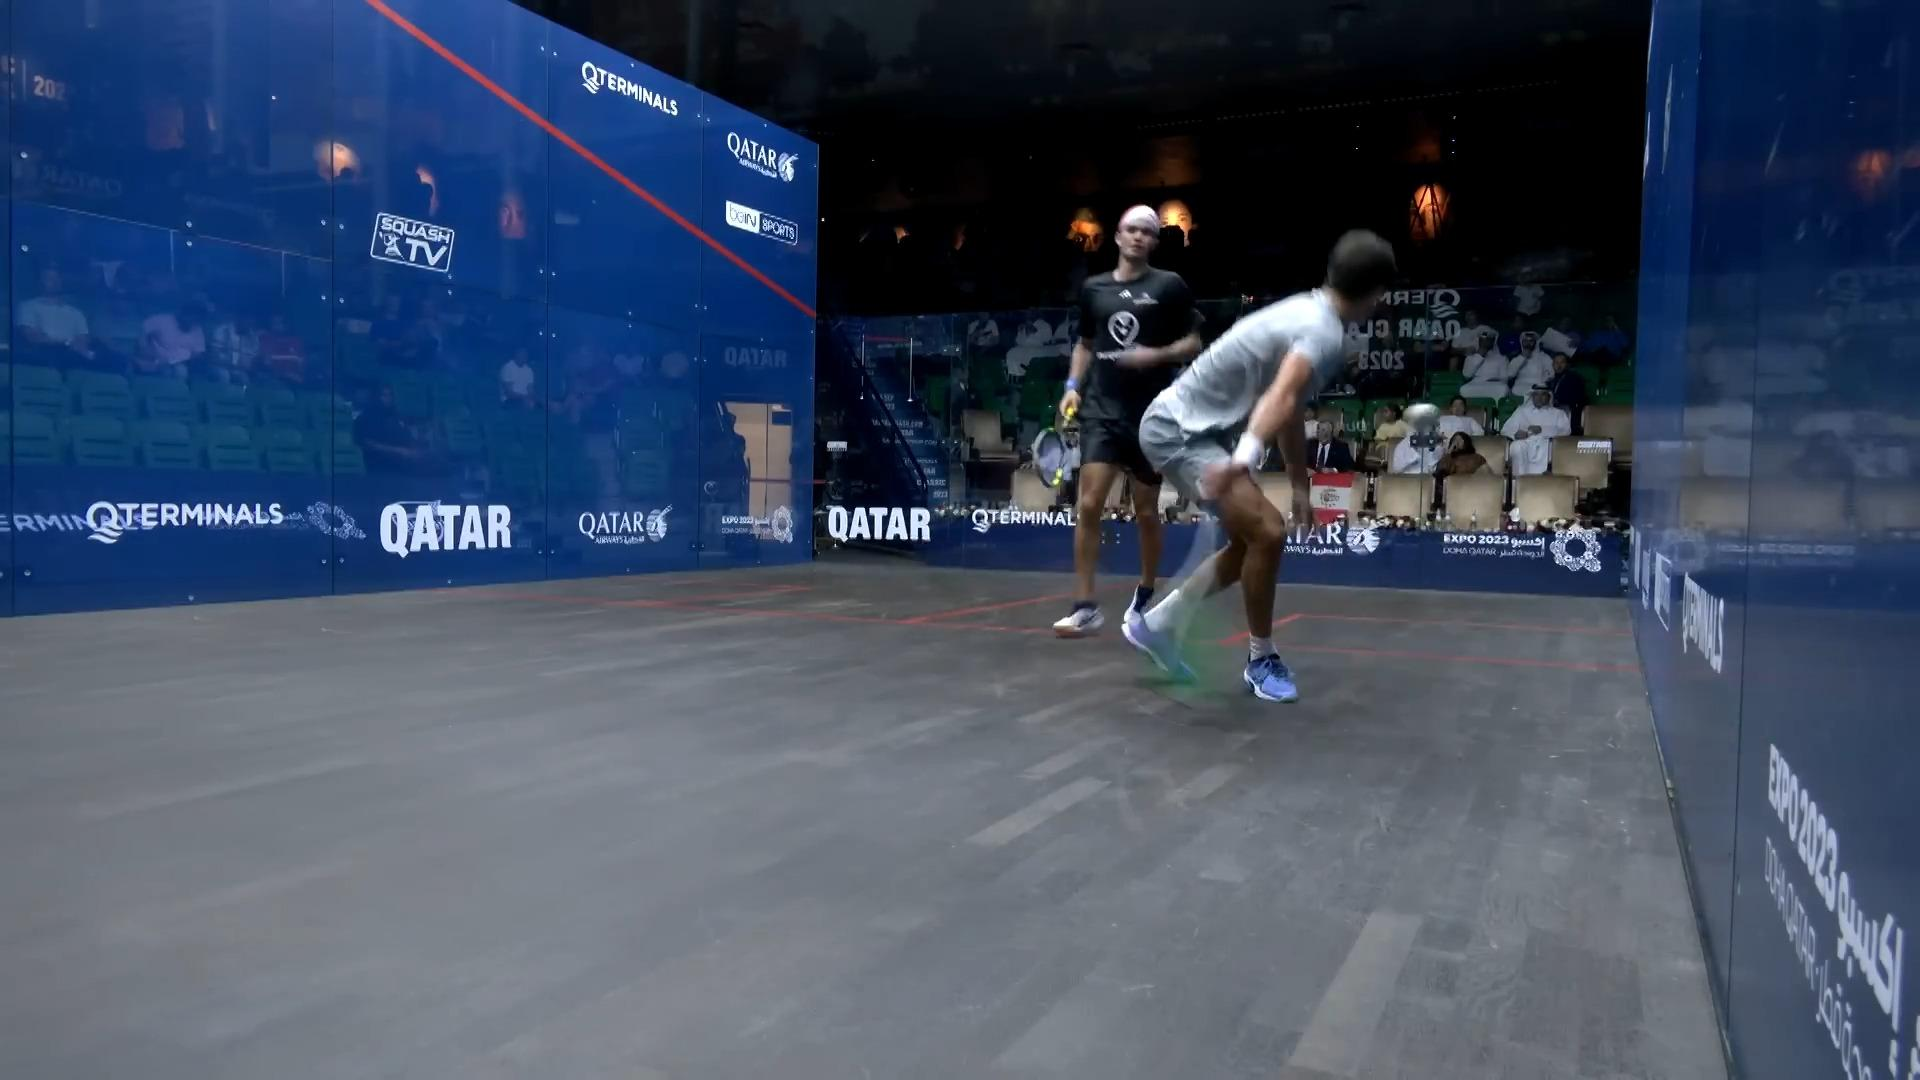Racket: (1030, 401, 1084, 493)
